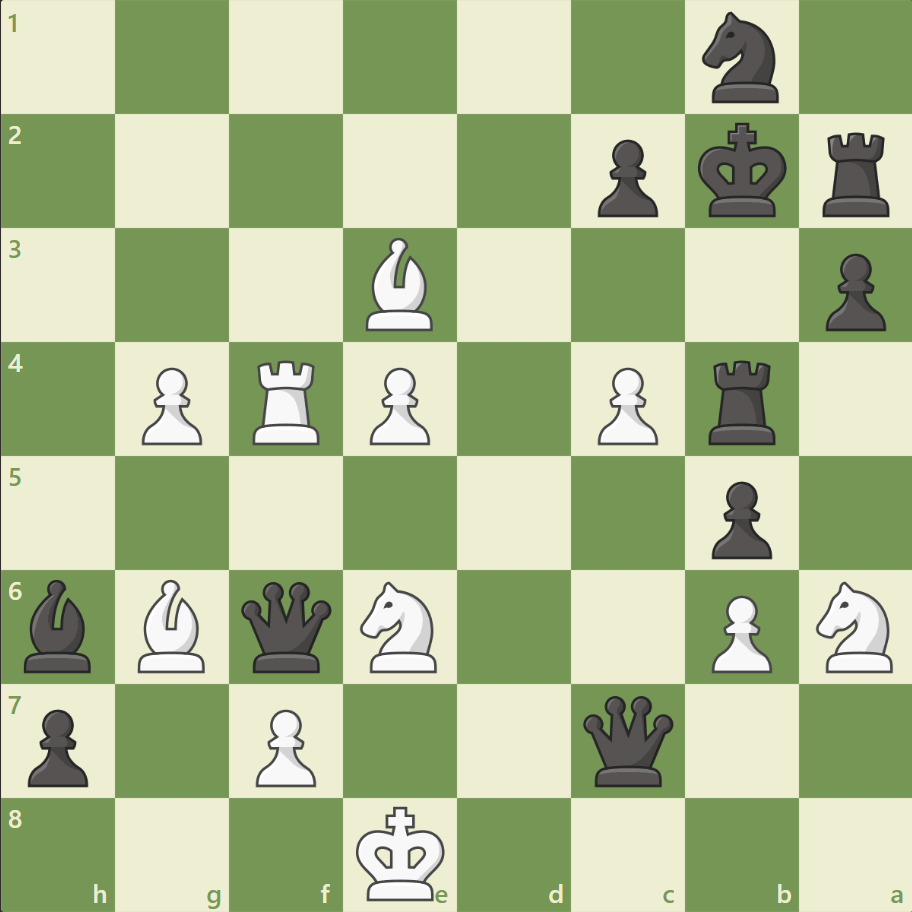B: (358, 233, 442, 336), (131, 574, 215, 676)
K: (351, 798, 451, 906)
N: (351, 575, 449, 677), (806, 575, 903, 677)
P: (247, 700, 322, 791), (701, 586, 776, 677), (133, 359, 208, 450), (588, 359, 662, 450), (361, 359, 435, 450)
R: (246, 352, 329, 449)
b: (17, 574, 101, 676)
k: (692, 117, 792, 225)
n: (692, 7, 789, 110)
p: (20, 700, 95, 791), (701, 473, 776, 564), (815, 246, 889, 337), (588, 132, 662, 223)
q: (237, 576, 336, 676), (578, 690, 677, 789)
r: (700, 352, 783, 449), (814, 125, 897, 222)
